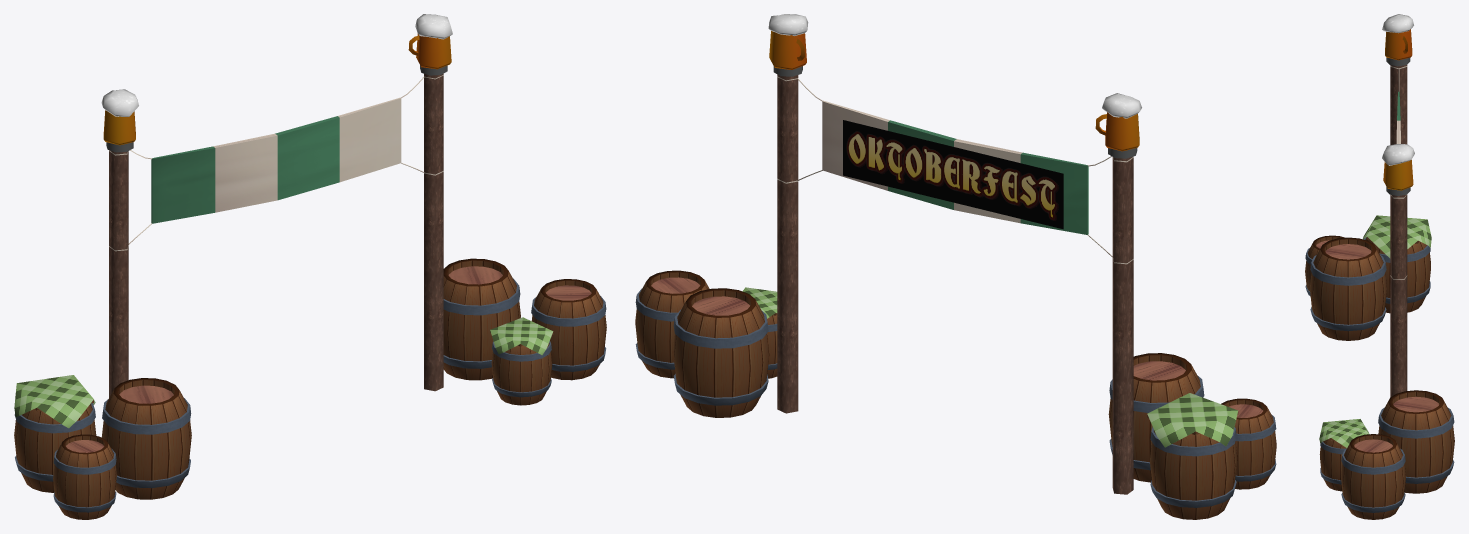
Rendered from SecondaryEntrance_Art.fbx.
3 views of the same model, side by side, from view 1: azimuth 30°, elevation 25°; view 2: azimuth 150°, elevation 25°; view 3: azimuth 270°, elevation 25° (orthographic). The views are drawn at different scales.
Parts seen in each view (by area): view 1: Oktoberfest_SecondaryEntrance_LOD0; view 2: Oktoberfest_SecondaryEntrance_LOD0; view 3: Oktoberfest_SecondaryEntrance_LOD0.
Part boxes in pixels (x1=…): Oktoberfest_SecondaryEntrance_LOD0: x1=14, y1=14, x2=606, y2=519; Oktoberfest_SecondaryEntrance_LOD0: x1=635, y1=14, x2=1276, y2=519; Oktoberfest_SecondaryEntrance_LOD0: x1=1305, y1=14, x2=1454, y2=519.
Size of what is drawn, in the model's own units: 686 by 425 by 184.
